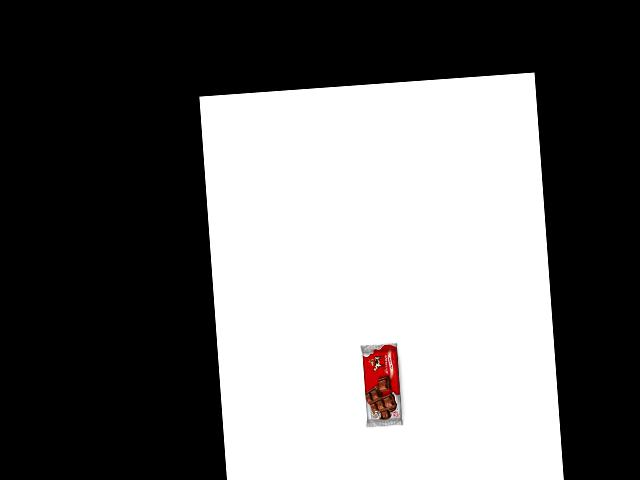chocolate: (360, 342, 403, 430)
